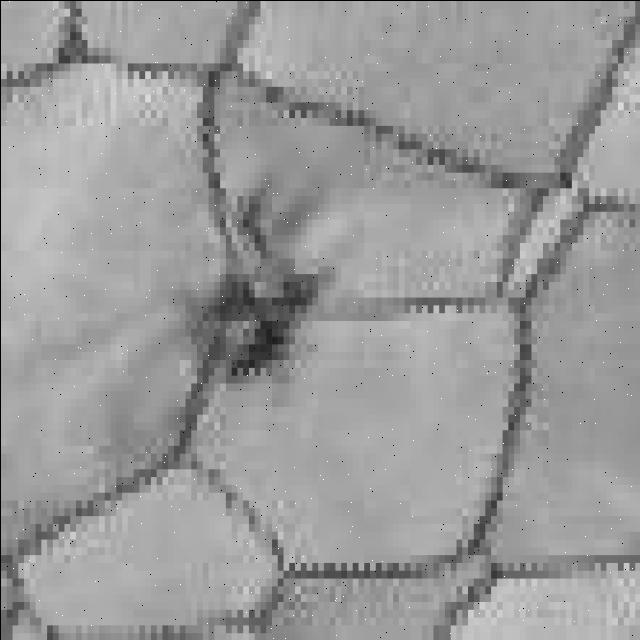good_void: (191, 189, 318, 393)
